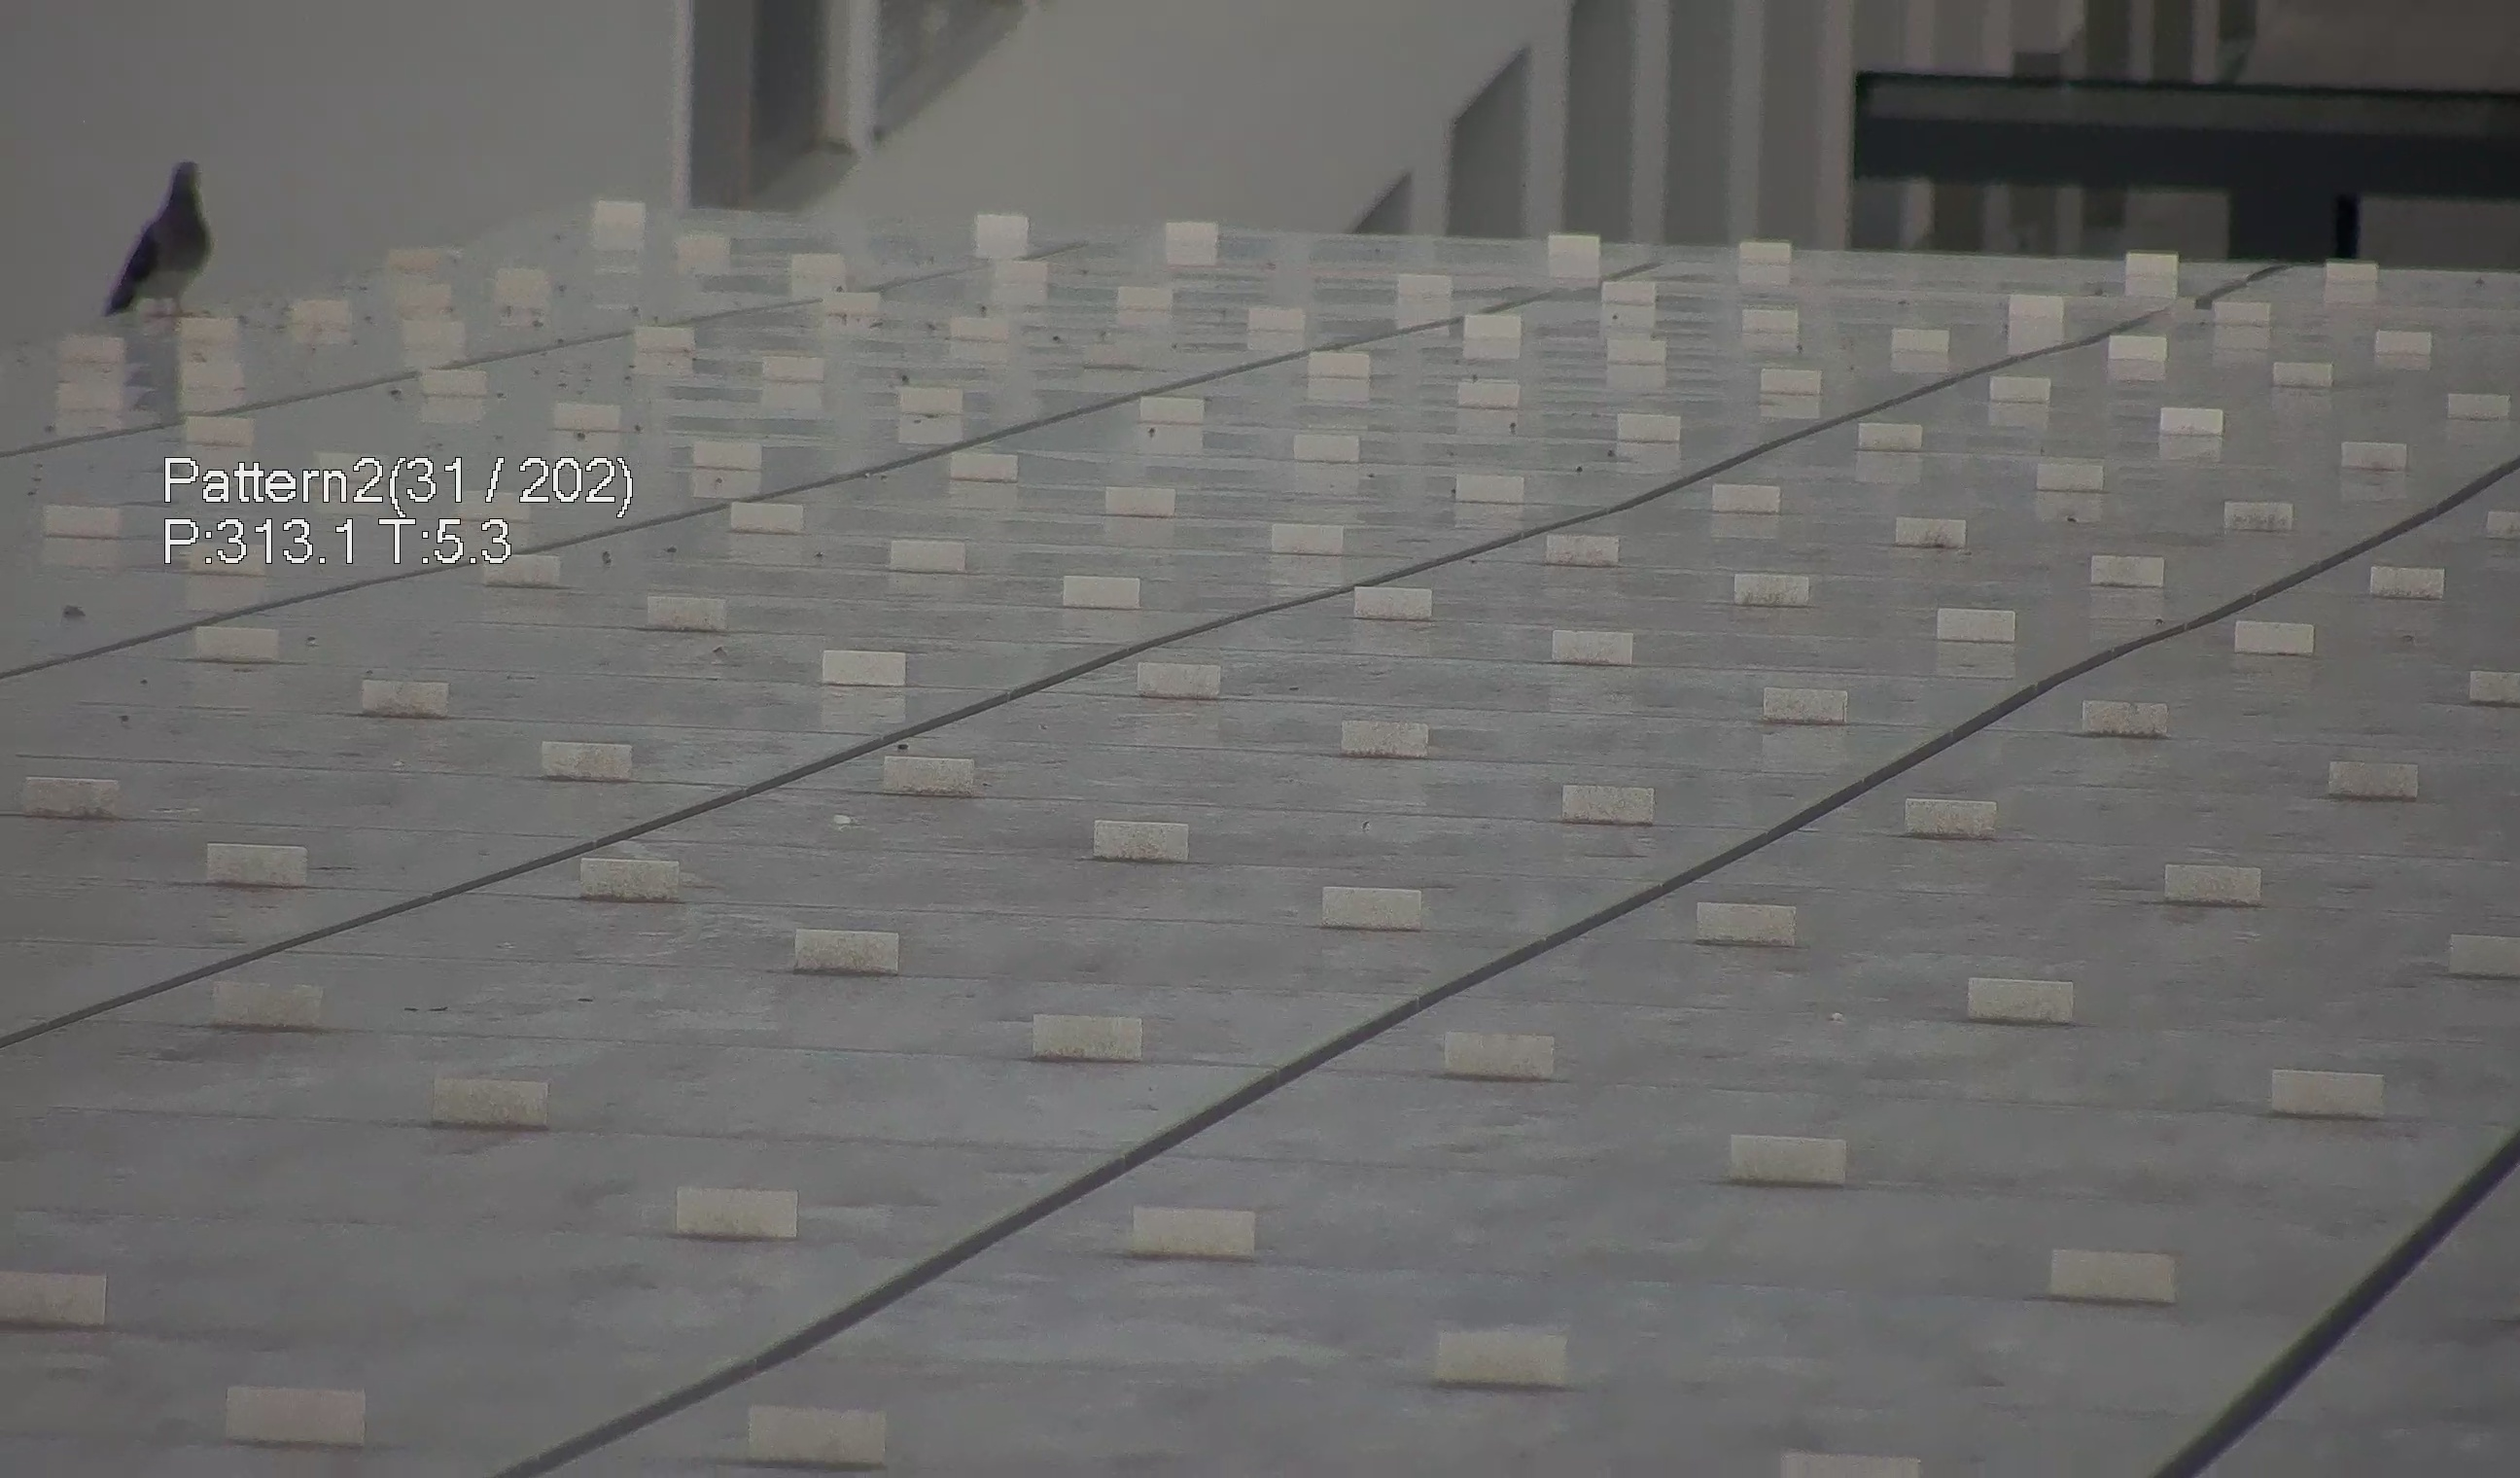Pigeon: (84, 141, 223, 329)
